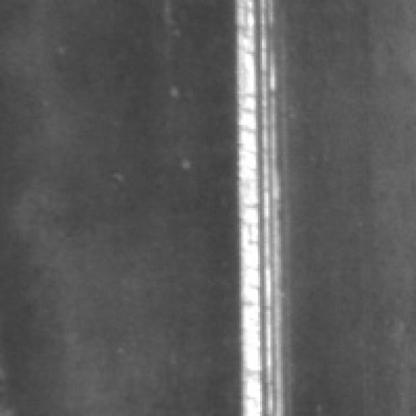scratches: (235, 0, 302, 412)
